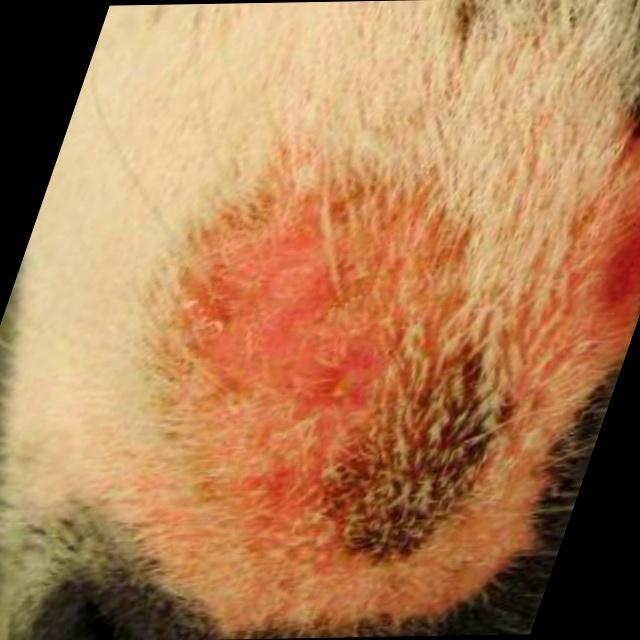ringworm: (153, 218, 441, 529)
